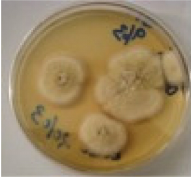Trichophyton: (104, 52, 161, 119), (41, 58, 79, 104), (81, 117, 127, 153)
